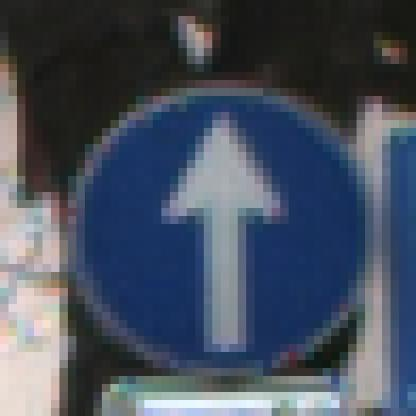AheadOnly: (52, 49, 374, 369)
